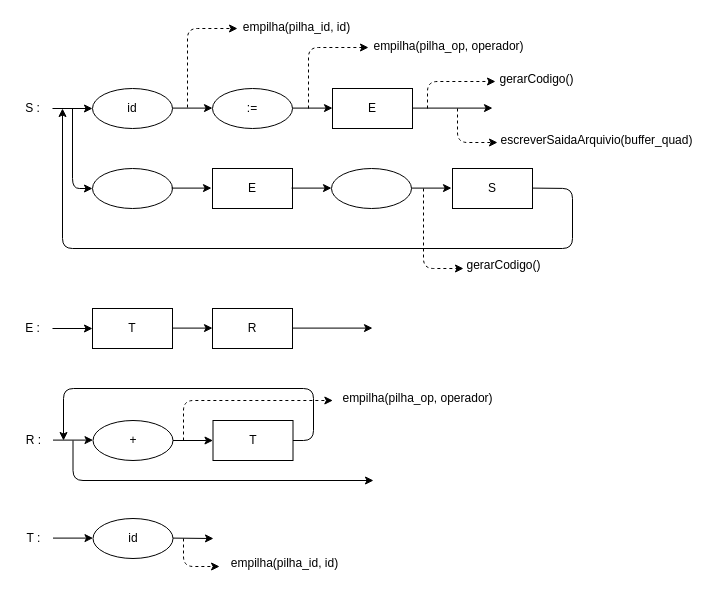
This 718x592 diagram has some shape labels left out. Each missing label, with the centre of its shape:
if: the point at 132,188
then: the point at 371,188
